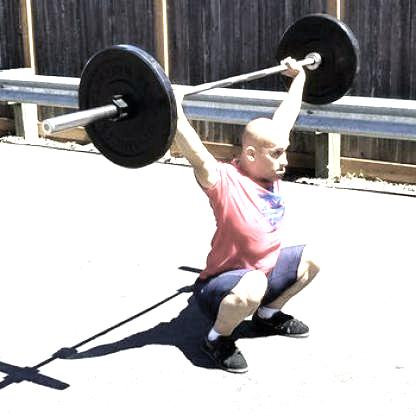Barbell: (37, 118, 55, 138)
